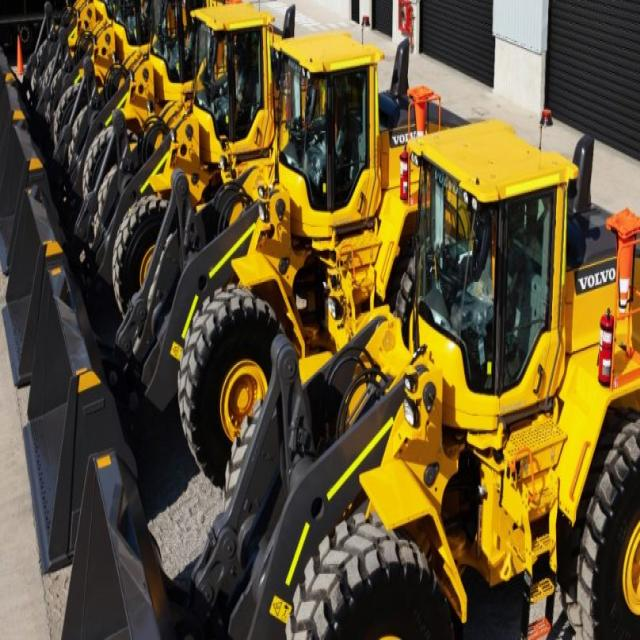buldozerpayloadergrader: (276, 111, 640, 640), (192, 32, 430, 440)
